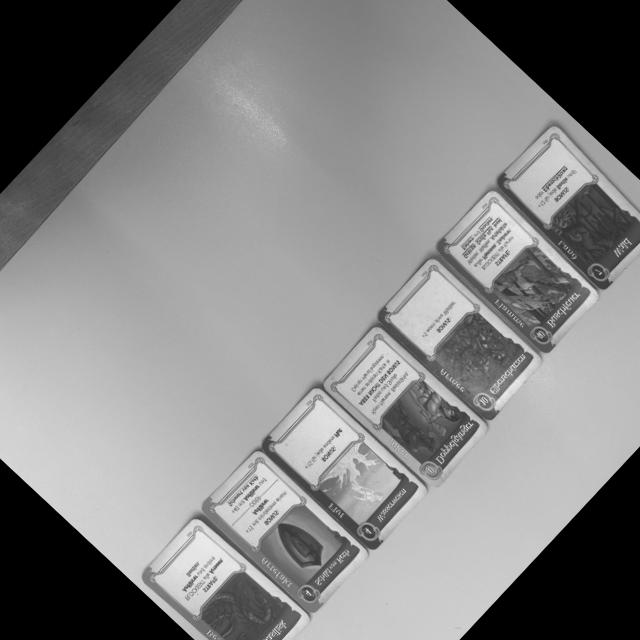Basilisk: (138, 515, 311, 640)
Doppelganger: (319, 323, 489, 490)
Elven Archers: (374, 254, 546, 426)
Forest: (492, 123, 640, 296)
Rune Of Protection: (198, 448, 370, 617)
Water Elemental: (258, 385, 429, 554)
Wildfire: (430, 186, 602, 359)
